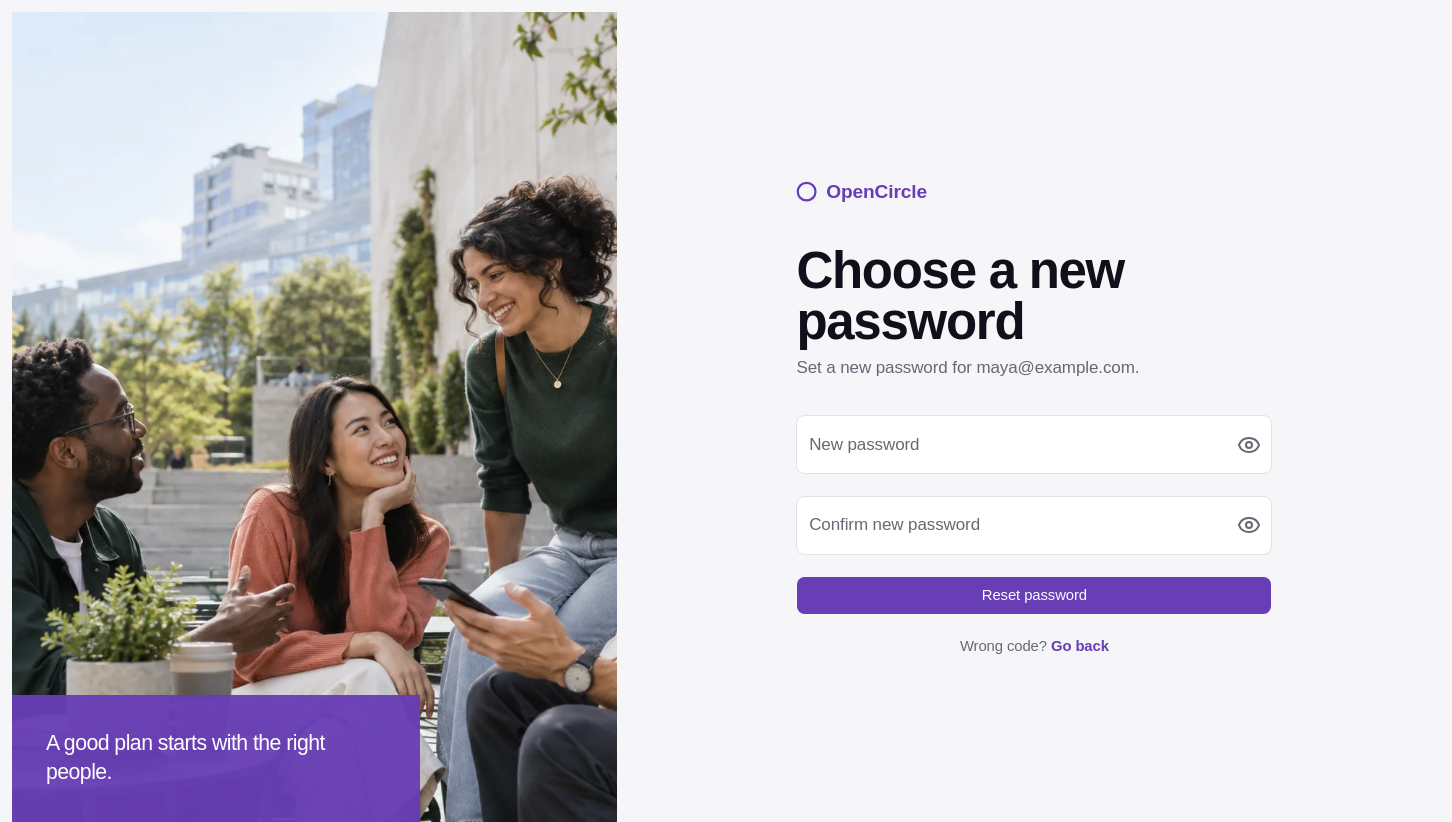
NewPasswordPage › shows an invalid-code error and offers a way back to the code step
Type "newpassword1" into the password field labelled "New password" at (1034, 445), box [796, 415, 1272, 474]
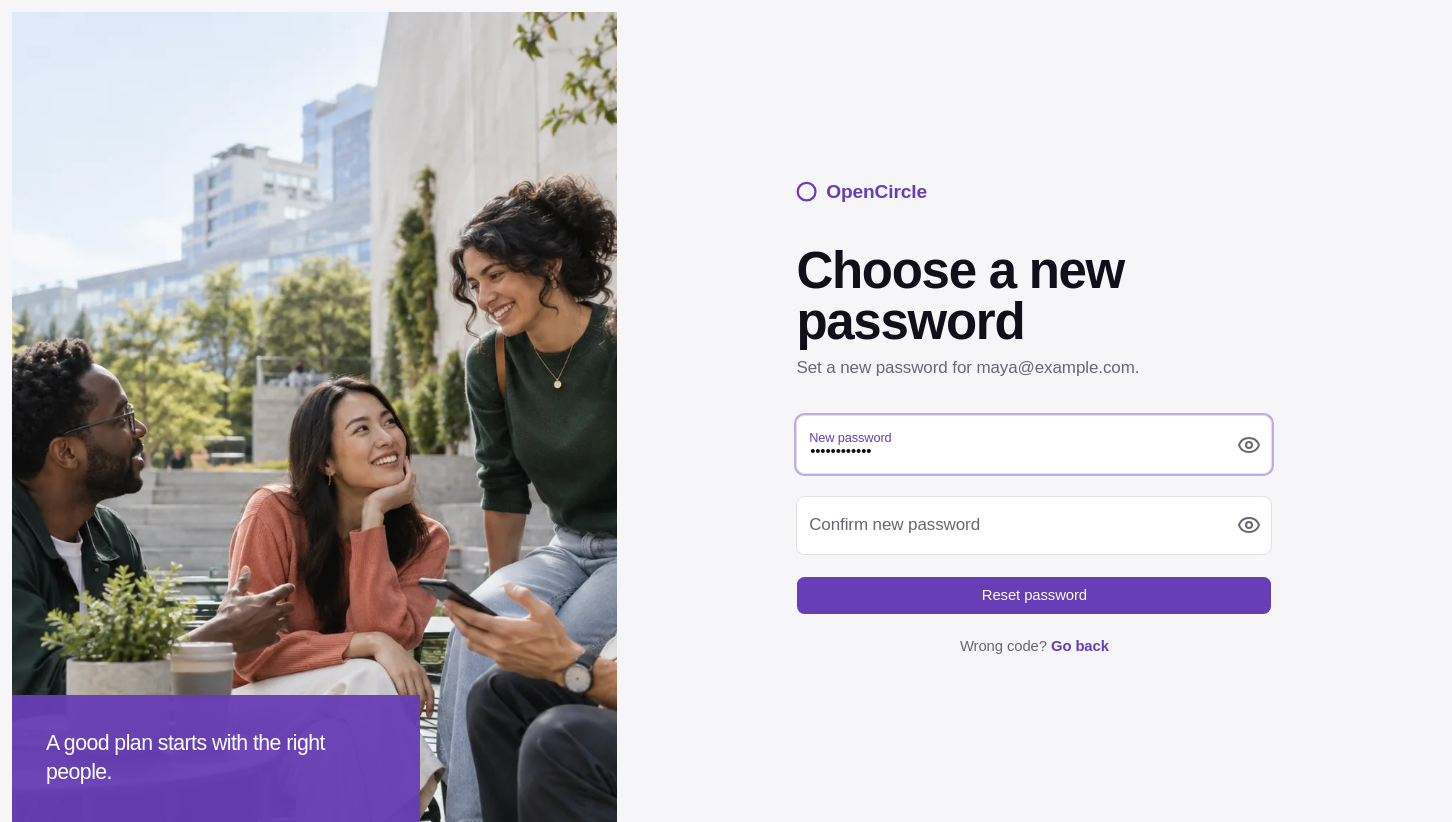
Type "newpassword1" into the password field labelled "Confirm new password" at (1034, 525), box [796, 496, 1272, 555]
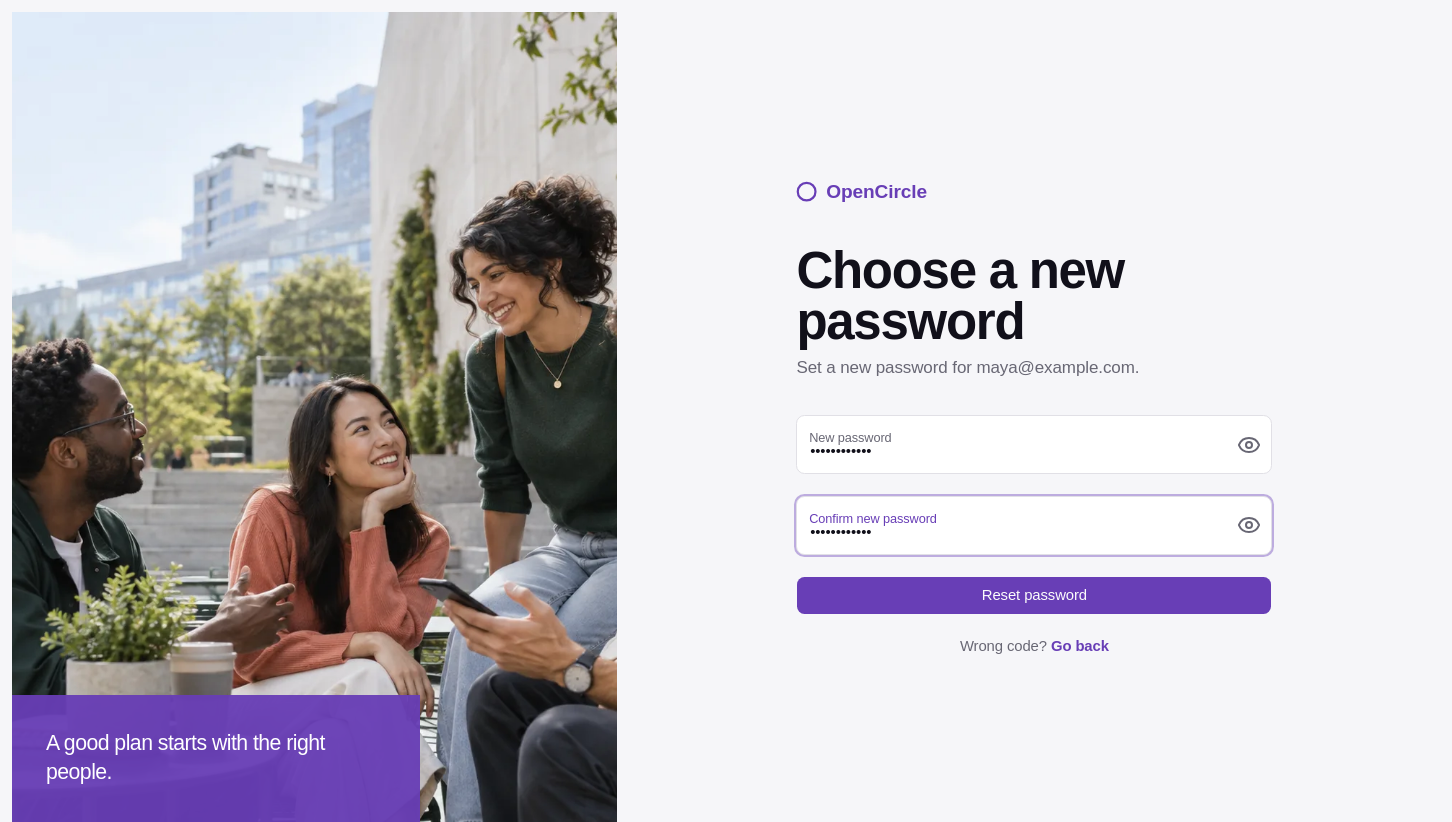
Click the button "Reset password" at (1034, 596), box [796, 576, 1272, 615]
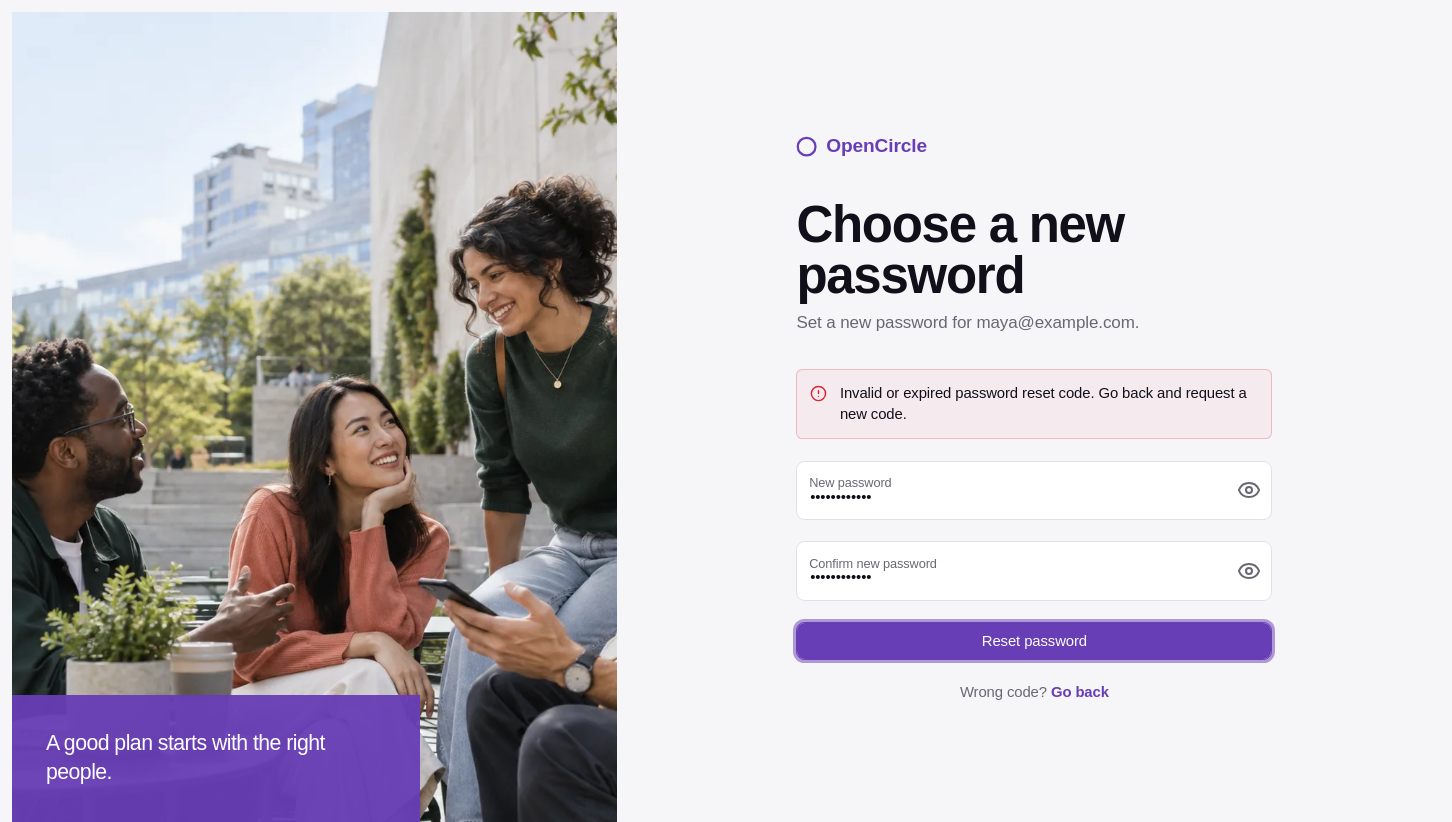
Expected: the text "Invalid or expired password reset code" is shown, [840, 385, 1247, 422]
